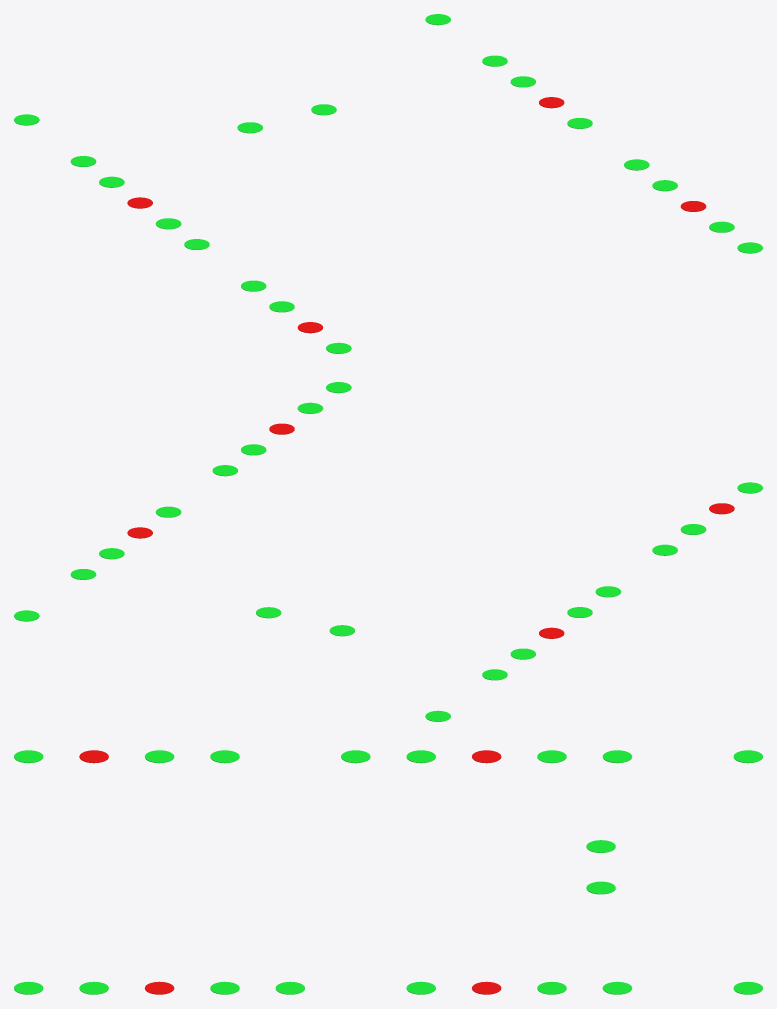
Rendered from leds.glb.
3 renders of one model, top to bottom at view 1: azimuth 30°, elevation 25°; view 2: azimuth 150°, elevation 25°; view 3: azimuth 270°, elevation 25°, orthographic. The views are drawn at different scales.
Bounding box in the file's own units: 0.0706 × 6e-05 × 0.0916.
